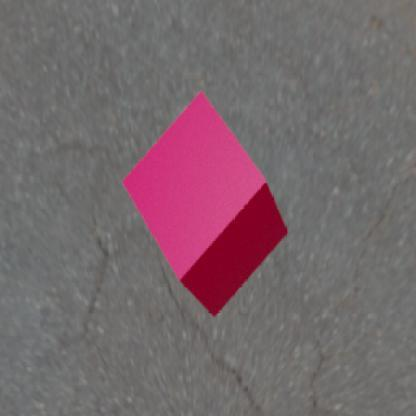cube: (120, 90, 288, 317)
